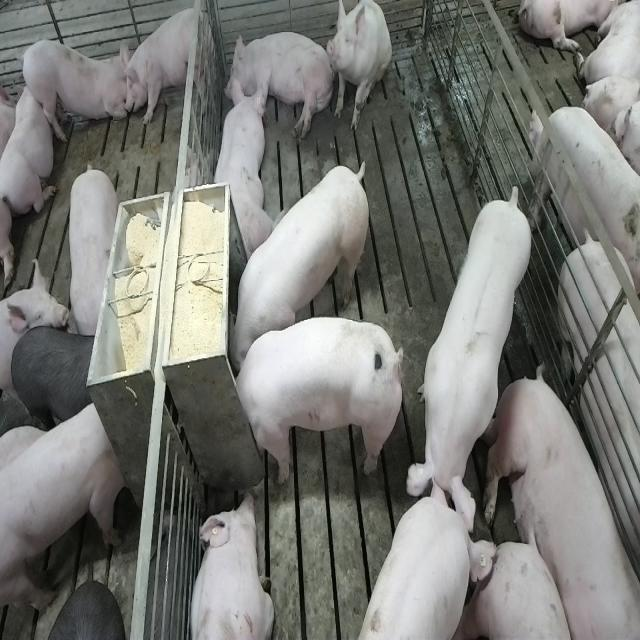Feeding: (228, 160, 376, 370), (232, 313, 408, 485)
Lateral_lying: (482, 368, 636, 640), (223, 29, 335, 140)
Sitting: (325, 1, 392, 134)
Standing: (410, 187, 536, 530), (556, 226, 640, 632), (1, 396, 126, 622), (530, 100, 640, 306), (357, 482, 499, 640), (121, 3, 210, 132), (12, 323, 99, 429), (65, 161, 117, 333)
Sternal_lying: (186, 490, 274, 640), (208, 83, 274, 263), (1, 74, 56, 214)
